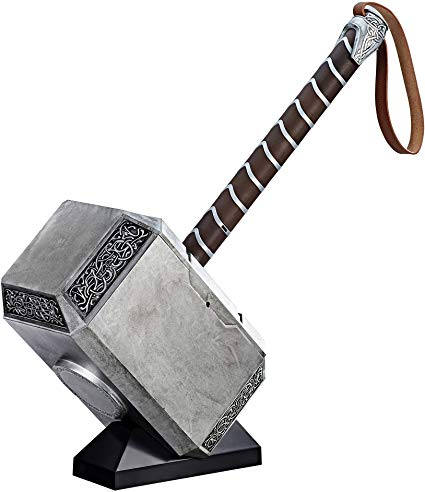THOR Hammer: (6, 19, 405, 464), (190, 271, 202, 280), (269, 290, 276, 301)
